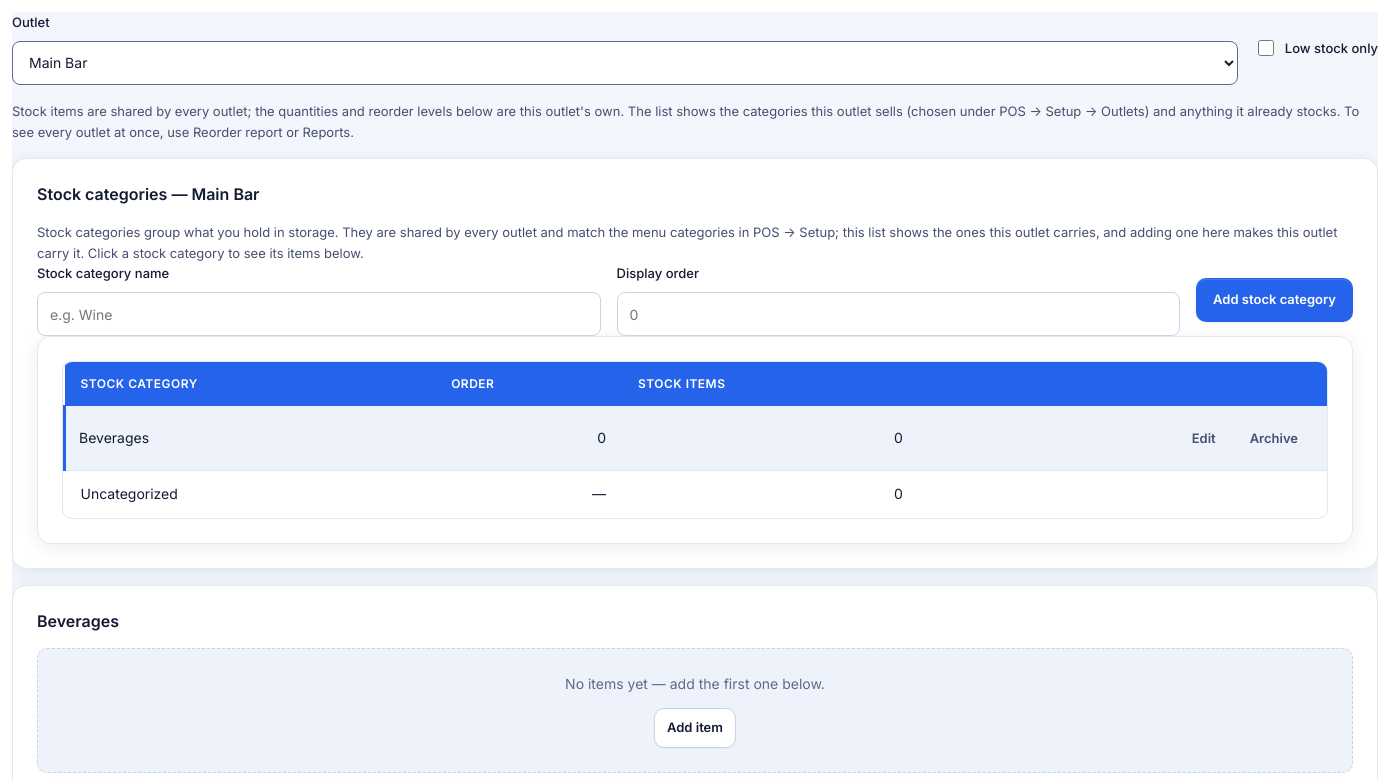
Test case: <StockItemsTab> › starts on the first outlet and shows only that outlet's stock categories; choosing another outlet shows only its own
Expected: the button "Beverages" is shown, [79,427,149,450]
Step 1. Select "Supermarket" in the dropdown labelled "Outlet" → {"x": 625, "y": 63}, box [12,41,1238,85]
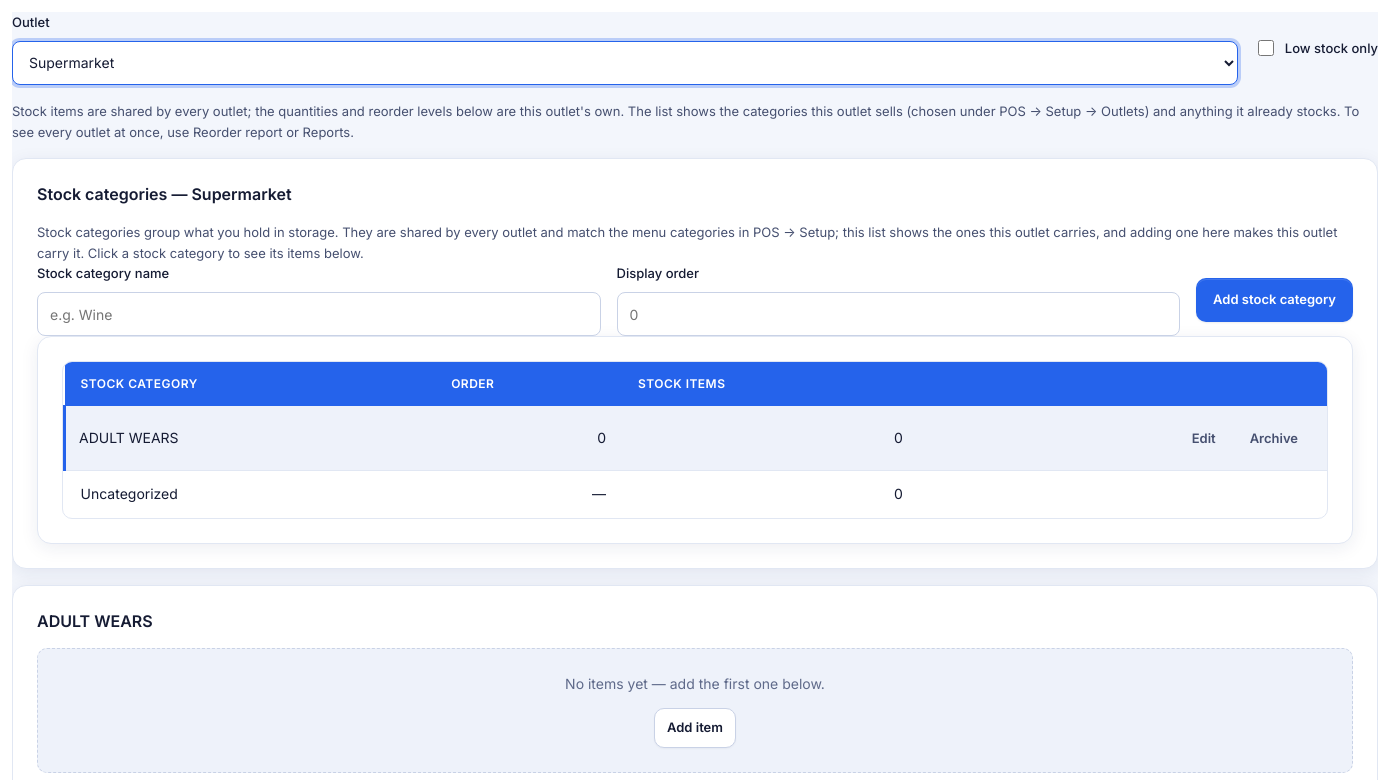
Expected: the button "ADULT WEARS" is shown, [79,427,179,450]
Expected: the button "Beverages" is gone
